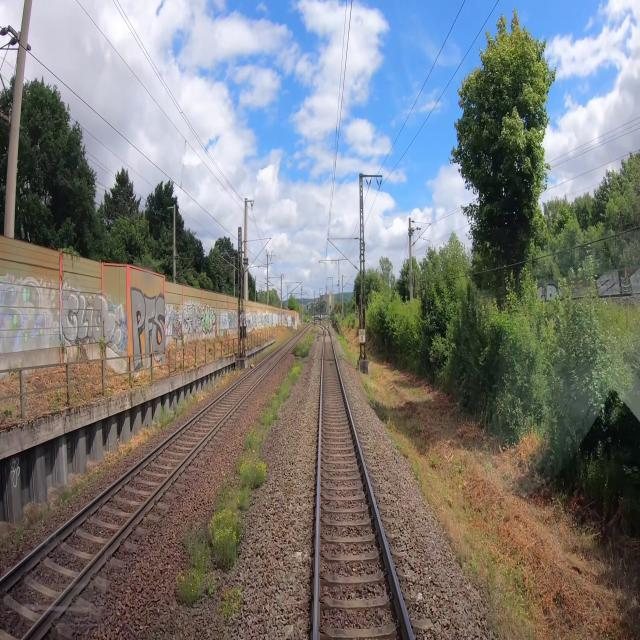Plant: (172, 366, 302, 624), (291, 325, 319, 359), (313, 322, 330, 336)
